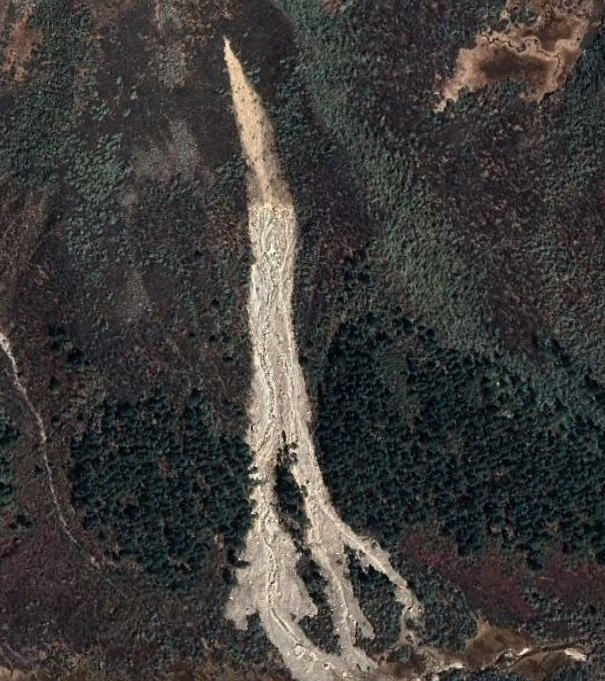slope: (216, 24, 469, 680)
